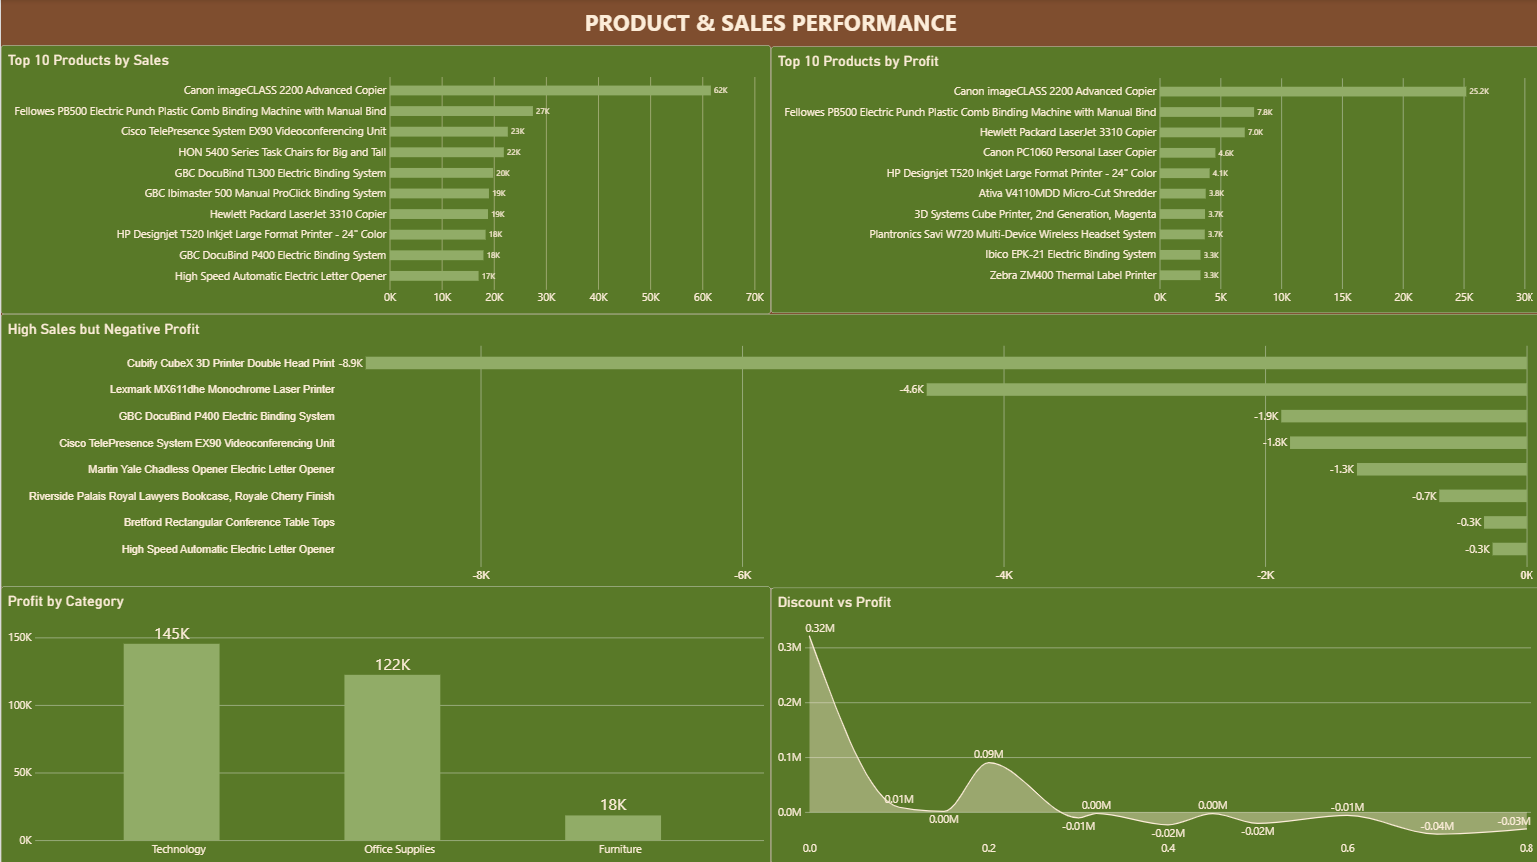

The dashboard page shown, as its layout file describes it:
{"tool":"powerbi","page":{"name":"Product & Sales Performance","canvas":[3840,2160],"ordinal":1},"visuals":[{"type":"clusteredBarChart","title":"Top 10 Products by Sales","fields":{"Category":["Superstore.Product Name"],"Y":["Superstore.total sales"]},"box":[0,115,1920,670],"z":0},{"type":"textbox","box":[0,0,3840,115],"z":1},{"type":"barChart","title":"Top 10 Products by Profit","fields":{"Category":["Superstore.Product Name"],"Y":["Superstore.total profit"]},"box":[1920,120,1920,665],"z":2},{"type":"barChart","title":"High Sales but Negative Profit","fields":{"Category":["Superstore.Product Name"],"Y":["Superstore.total profit"]},"box":[0,785,3840,685],"z":3},{"type":"clusteredColumnChart","title":"Profit by Category","fields":{"Category":["Superstore.Category"],"Y":["Superstore.total profit"]},"box":[0,1465,1920,695],"z":4},{"type":"lineChart","title":"Discount vs Profit","fields":{"Category":["Superstore.Discount"],"Y":["Superstore.total profit"]},"box":[1920,1470,1920,690],"z":5}]}

Visuals, with their boxes in screenshot pixels (x1, y1, x2, y2), scaled from the page's 3840x2160 canvas onto the 1537x862 screenshot:
"Top 10 Products by Sales" clusteredBarChart: <bbox>0, 46, 768, 313</bbox>
textbox: <bbox>0, 0, 1536, 46</bbox>
"Top 10 Products by Profit" barChart: <bbox>768, 48, 1536, 313</bbox>
"High Sales but Negative Profit" barChart: <bbox>0, 313, 1536, 587</bbox>
"Profit by Category" clusteredColumnChart: <bbox>0, 585, 768, 861</bbox>
"Discount vs Profit" lineChart: <bbox>768, 587, 1536, 861</bbox>
